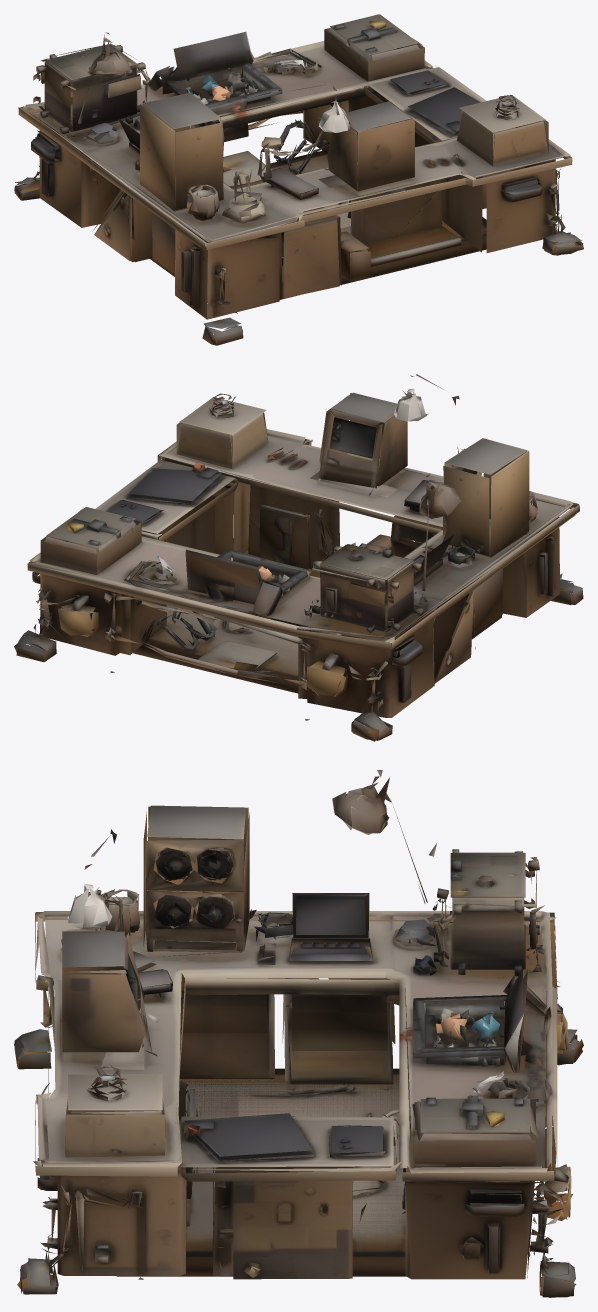
Rendered from ch8_syndicate_field_lab_LOD2.glb.
3 renders of one model, top to bottom at view 1: azimuth 30°, elevation 25°; view 2: azimuth 150°, elevation 25°; view 3: azimuth 270°, elevation 25°, orthographic. The views are drawn at different scales.
Visible parts, largest first — view 1: tripo_node_7368148b-558b-49bb-bc4a-a773b8729387; view 2: tripo_node_7368148b-558b-49bb-bc4a-a773b8729387; view 3: tripo_node_7368148b-558b-49bb-bc4a-a773b8729387.
Boxes of the visible parts, x1,y1,x2,y2 form: tripo_node_7368148b-558b-49bb-bc4a-a773b8729387: (14,14,583,345); tripo_node_7368148b-558b-49bb-bc4a-a773b8729387: (14,374,583,741); tripo_node_7368148b-558b-49bb-bc4a-a773b8729387: (14,770,583,1297).
Bounding box in the file's own units: 0.998 × 0.5529 × 0.9447.
1 material, 1 textured.
